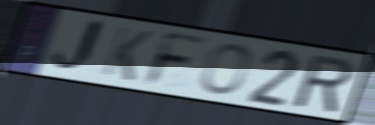2: (247, 46, 302, 110)
F: (141, 29, 212, 89)
J: (48, 16, 109, 76)
K: (98, 24, 155, 84)
O: (199, 42, 253, 96)
R: (293, 53, 356, 116)
